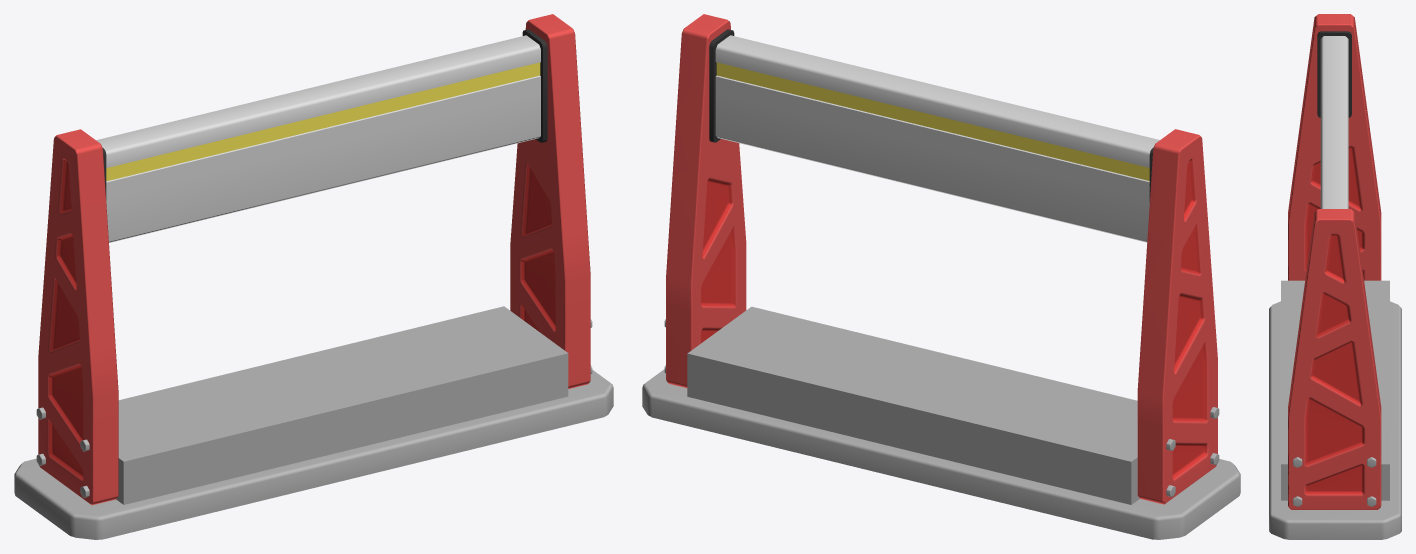
Rendered from obstacle_4_001.fbx.
3 renders of one model, left to right at view 1: azimuth 30°, elevation 25°; view 2: azimuth 150°, elevation 25°; view 3: azimuth 270°, elevation 25°, orthographic. The views are drawn at different scales.
Parts seen in each view (by area): view 1: obstacle_4_001; view 2: obstacle_4_001; view 3: obstacle_4_001.
Part boxes in pixels (bbox=[...]): obstacle_4_001: bbox=[14, 14, 613, 539]; obstacle_4_001: bbox=[642, 14, 1240, 539]; obstacle_4_001: bbox=[1269, 14, 1401, 539].
Size of the model in its own units: 1609 by 403 by 1044.
